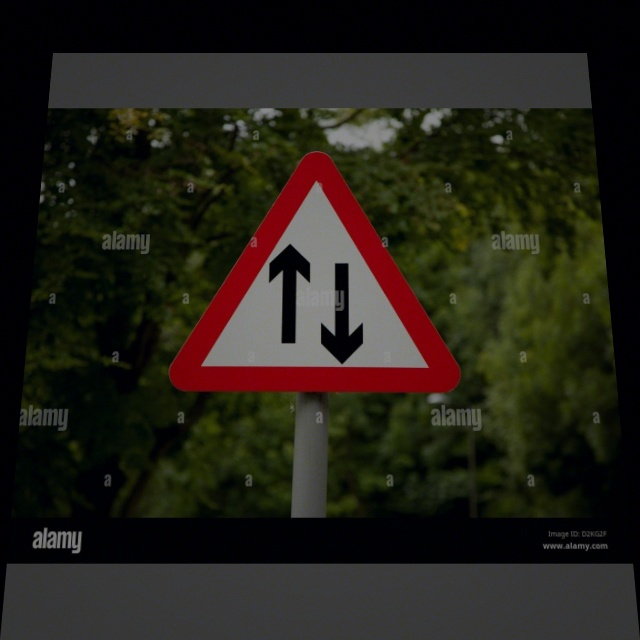Mandatory_Two_Way_Traffic: (166, 154, 461, 392)
